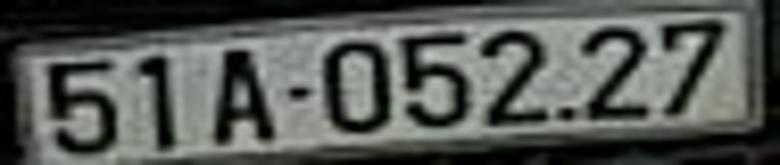-: (286, 84, 316, 101)
.: (558, 107, 576, 122)
0: (324, 42, 392, 133)
1: (136, 57, 176, 152)
2: (480, 29, 550, 124), (584, 28, 648, 119)
5: (41, 62, 118, 153), (401, 35, 469, 125)
7: (661, 22, 725, 121)
A: (211, 48, 277, 142)
